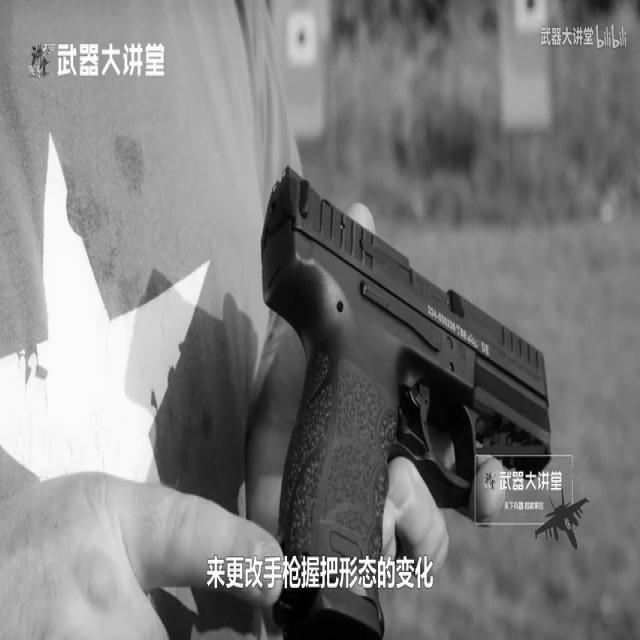Hand-Gun: (241, 130, 573, 640)
